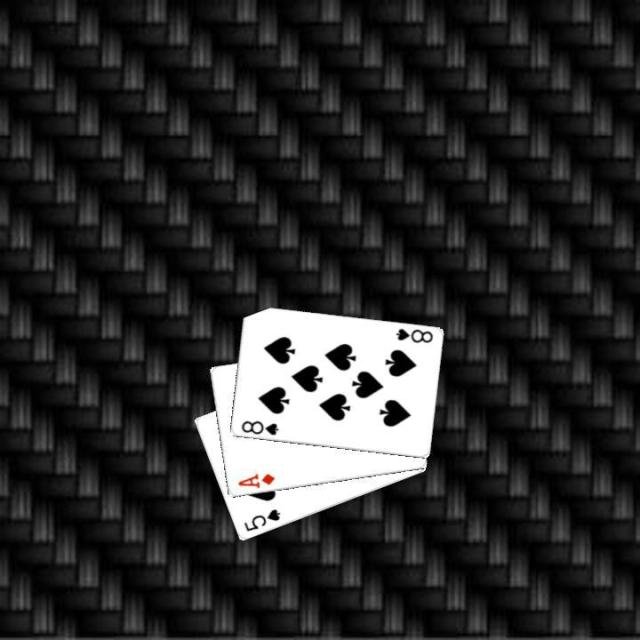5S: (240, 505, 282, 533)
8S: (392, 324, 434, 345), (237, 417, 280, 437)
AD: (234, 470, 276, 490)
